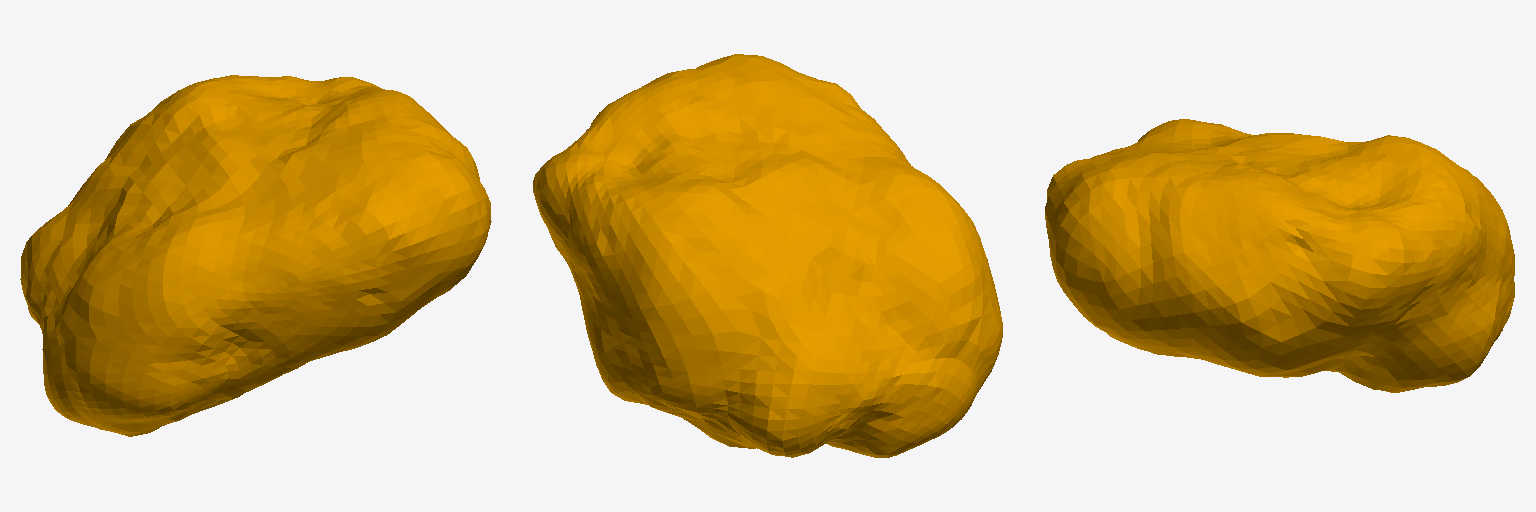
robot.urdf — rock:
<?xml version="1.0" ?>
<robot name="rock">
  <link name="rock">
    <inertial>
      <mass value="0.316"/>
      <origin rpy="0 0 0" xyz="0 0 0"/>
      <inertia ixx="0.000316" ixy="0" ixz="0" iyy="0.000316" iyz="0" izz="0.000316"/>
    </inertial>
    <collision name="rock_collision">
      <origin rpy="0 0 0" xyz="0 0 0"/>
      <geometry>
        <mesh filename="package://rocks/visual/231.dae" scale="1 1 1"/>
      </geometry>
    </collision>
    <visual name="rock_visual">
      <origin rpy="0 0 0" xyz="0 0 0"/>
      <geometry>
        <mesh filename="package://rocks/visual/231.dae" scale="1 1 1"/>
      </geometry>
    </visual>
  </link>
</robot>

--- Render facts (derived) ---
3 views of the same robot in one strip: view 1: azimuth 30°, elevation 25°; view 2: azimuth 150°, elevation 25°; view 3: azimuth 270°, elevation 25° (orthographic).
Robot: rock — 1 links, 0 joints (none); root link rock; default pose: all joints at 0.
Visible links, largest first — view 1: rock; view 2: rock; view 3: rock.
Link boxes in pixels (left/top/right/bottom): rock: left=20, top=75, right=491, bottom=436; rock: left=533, top=54, right=1002, bottom=457; rock: left=1045, top=119, right=1514, bottom=392.
Size in the robot's own frame: 0.0706 by 0.0673 by 0.0476 metres.
1 mesh visuals loaded from 1 distinct referenced files (1 Collada DAE).